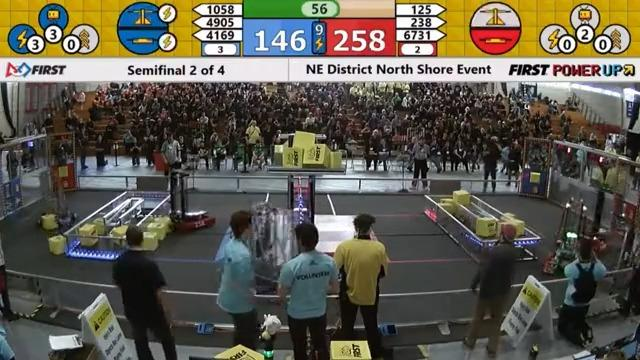robot: (245, 199, 304, 298), (540, 194, 601, 279), (161, 167, 216, 232), (35, 169, 77, 232)
